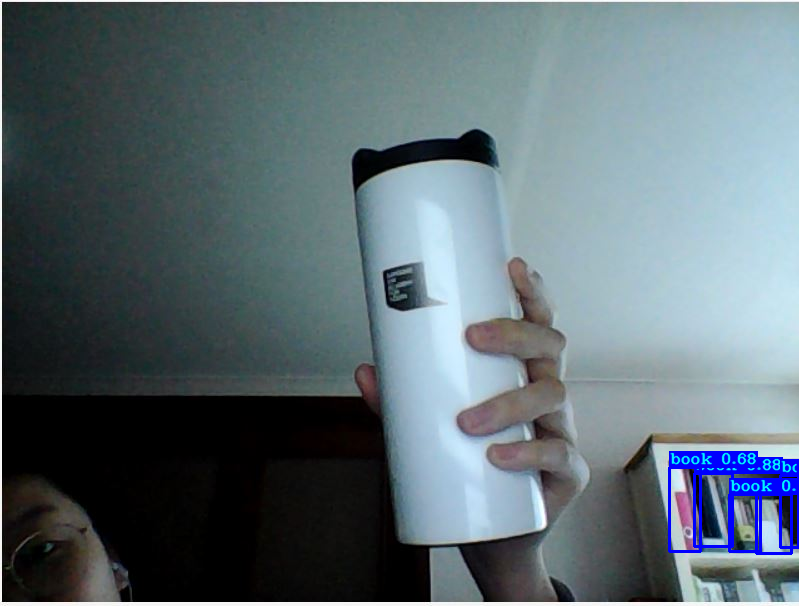book: (694, 473, 732, 546), (669, 467, 700, 551), (756, 494, 791, 553), (729, 494, 760, 551), (780, 475, 798, 547)
